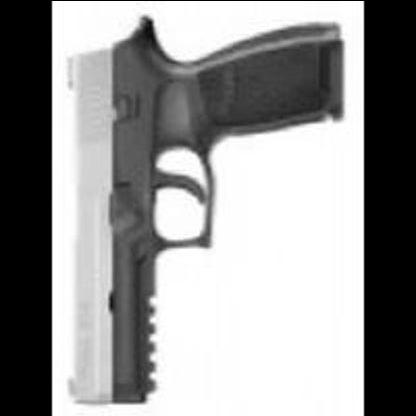weapon: (55, 3, 352, 416)
